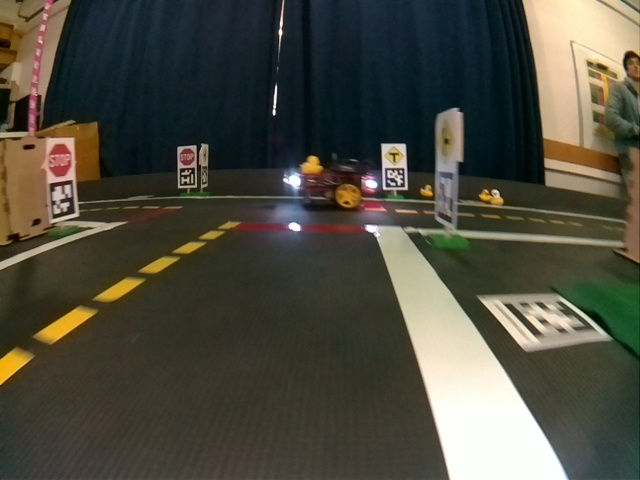Duckie: (301, 156, 323, 174), (491, 190, 500, 203), (479, 190, 489, 200), (423, 187, 432, 196)
Duckiebot: (285, 167, 377, 208)
Intersection sign: (439, 121, 455, 163), (384, 147, 405, 163)
QR code: (486, 297, 608, 350), (51, 182, 76, 216), (436, 171, 454, 218), (385, 168, 406, 188), (178, 168, 195, 186), (201, 169, 209, 185)
Stop sign: (48, 143, 73, 174), (179, 148, 195, 165)
